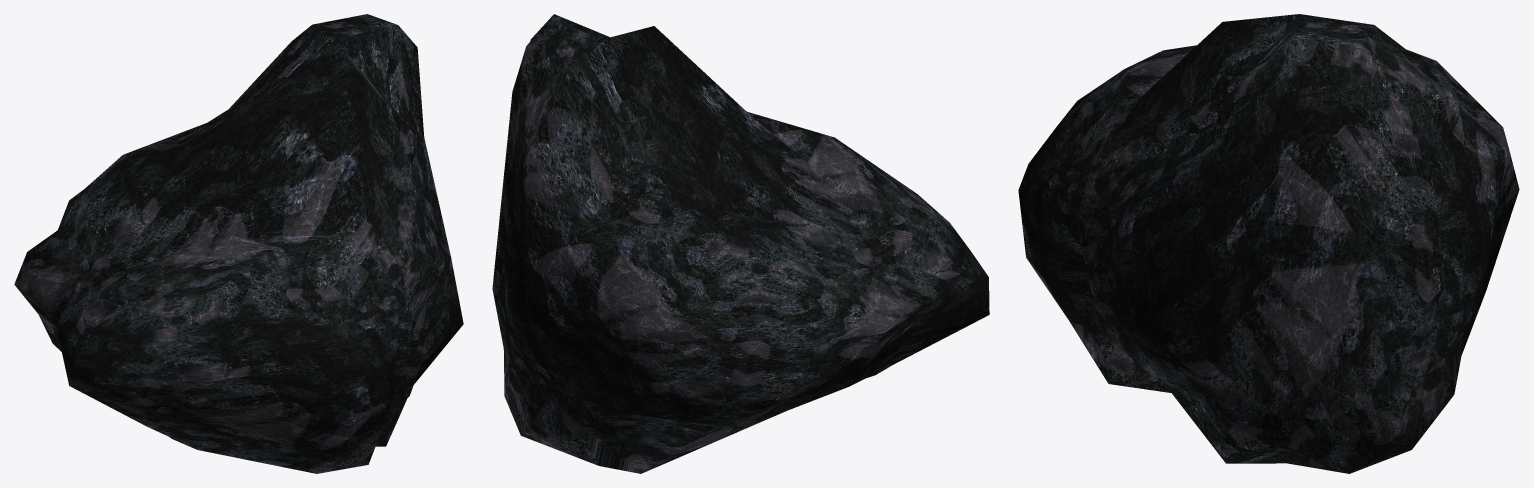
The model's file is asteroid_obsidian_small_s02_l1.fbx.
The picture shows the model from 3 angles, left to right: view 1: azimuth 30°, elevation 25°; view 2: azimuth 150°, elevation 25°; view 3: azimuth 270°, elevation 25°; orthographic projection. The views are drawn at different scales.
Visible parts, largest first — view 1: mesh_node; view 2: mesh_node; view 3: mesh_node.
Part boxes in pixels (left/top/right/bottom): mesh_node: left=14, top=14, right=463, bottom=473; mesh_node: left=492, top=14, right=989, bottom=473; mesh_node: left=1018, top=14, right=1519, bottom=473.
Bounding box in the file's own units: 27.31 × 26.51 × 25.97.
